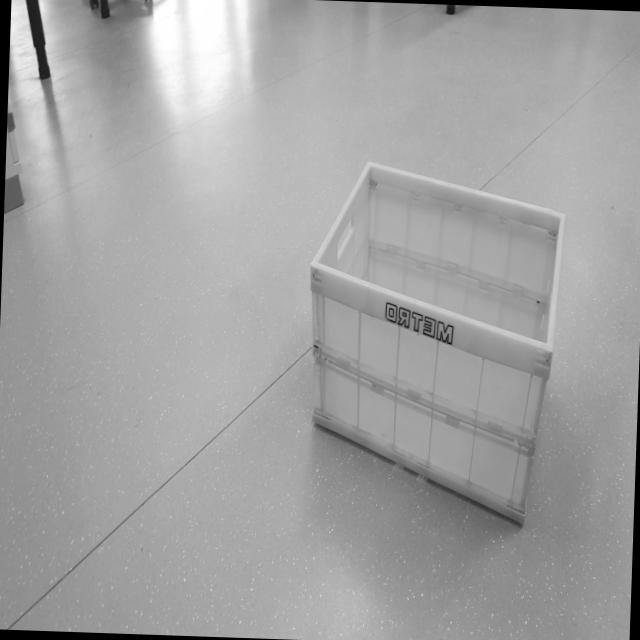box: (289, 111, 582, 558)
